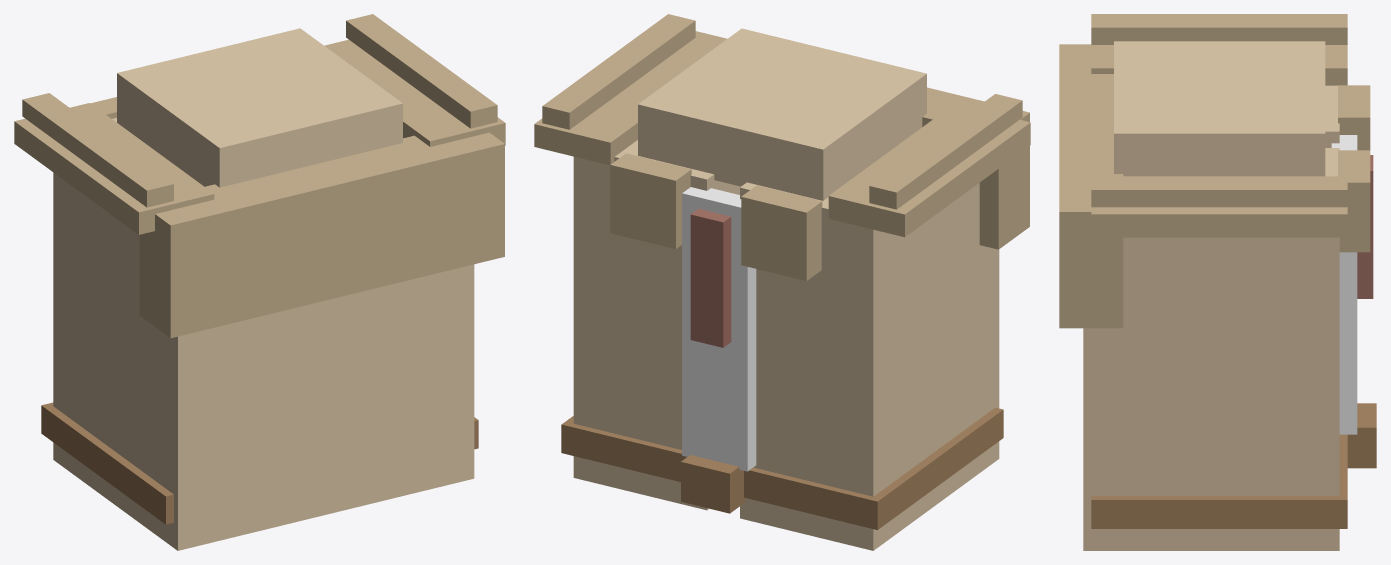
Rendered from detetive_tronco.glb.
3 views of the same model, side by side, from view 1: azimuth 30°, elevation 25°; view 2: azimuth 150°, elevation 25°; view 3: azimuth 270°, elevation 25° (orthographic). The views are drawn at different scales.
Parts seen in each view (by area): view 1: detetive_tronco; view 2: detetive_tronco; view 3: detetive_tronco.
Part boxes in pixels (box(x1,y1,x2,y2)): detetive_tronco: box(14, 14, 505, 550); detetive_tronco: box(534, 14, 1030, 550); detetive_tronco: box(1059, 14, 1376, 550).
Size of the model in its own units: 0.68 by 0.67 by 0.495.
